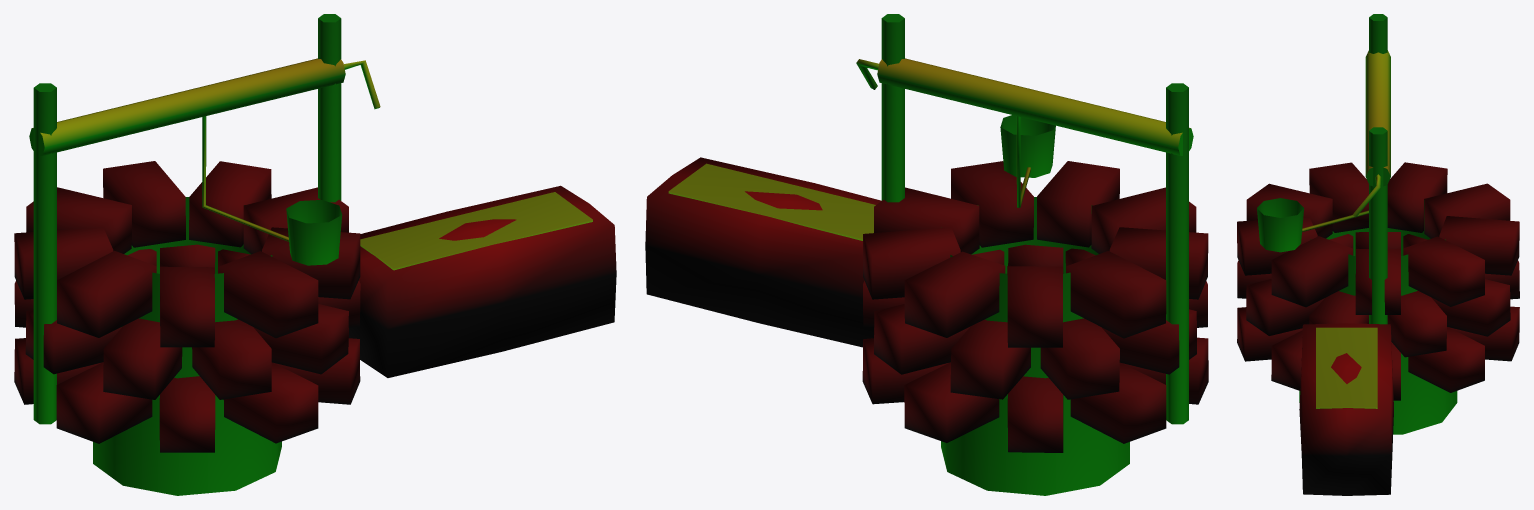
Rendered from quellan_well.glb.
3 renders of one model, left to right at view 1: azimuth 30°, elevation 25°; view 2: azimuth 150°, elevation 25°; view 3: azimuth 270°, elevation 25°, orthographic. The views are drawn at different scales.
Visible parts, largest first — view 1: quellan_well; view 2: quellan_well; view 3: quellan_well.
Part boxes in pixels (box(x1,y1,x2,y2)): quellan_well: box(14, 14, 616, 495); quellan_well: box(645, 14, 1208, 495); quellan_well: box(1237, 14, 1519, 495).
Size of what is drawn, in the model's own units: 3.2 by 2.3 by 1.79.
